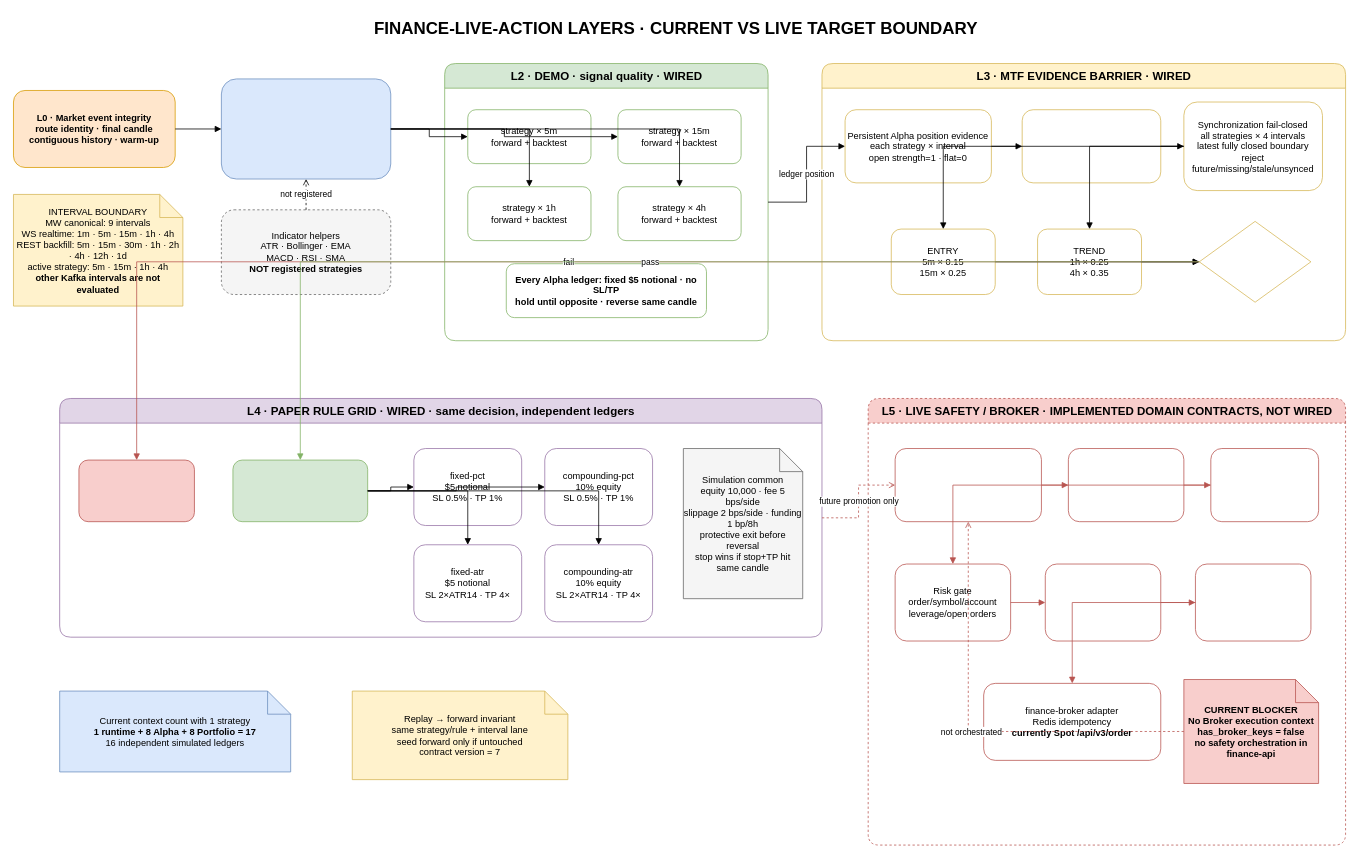
This 1359x859 diagram has some shape labels left out. Each missing label, with the centre of its shape:
5m primary pending queue oldest close first state survives checkpoint: (1091,146)
Both |score| ≥ 0.10 AND same sign?: (1255,261)
Execution halt + performance halt: (1264,485)
ExecutionDecisionEnvelope Offline · Paper · Shadow Canary · ApprovedLive: (967,485)
FAIL → HOLD explicit gate reason: (136,490)
Freshness + continuity 6 source watermarks: (1126,485)
L1 · StrategyEngine candle_momentum only body ≥ 0.1% up LONG · down SHORT: (306,128)
PASS → one aggregate LONG / SHORT decision: (300,490)
Position reconciliation local ↔ broker: (1253,602)
Precision + cost gate tick/step/min notional total cost budget: (1103,602)
